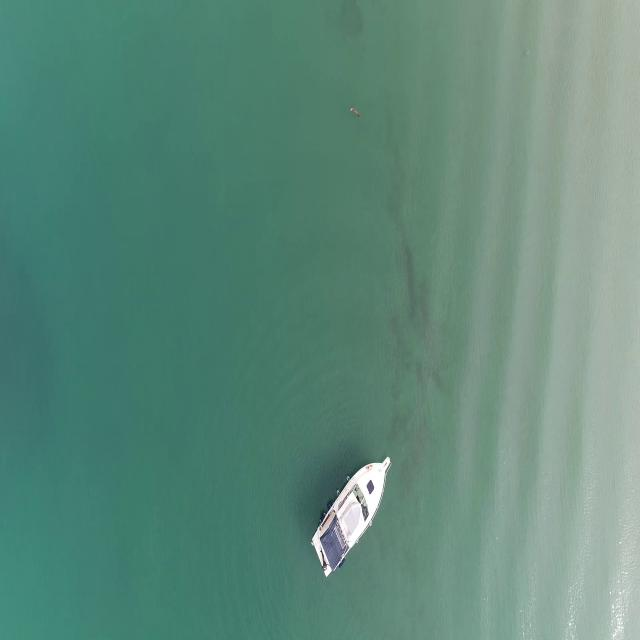boat: (312, 451, 391, 583)
wood: (349, 105, 362, 119)
